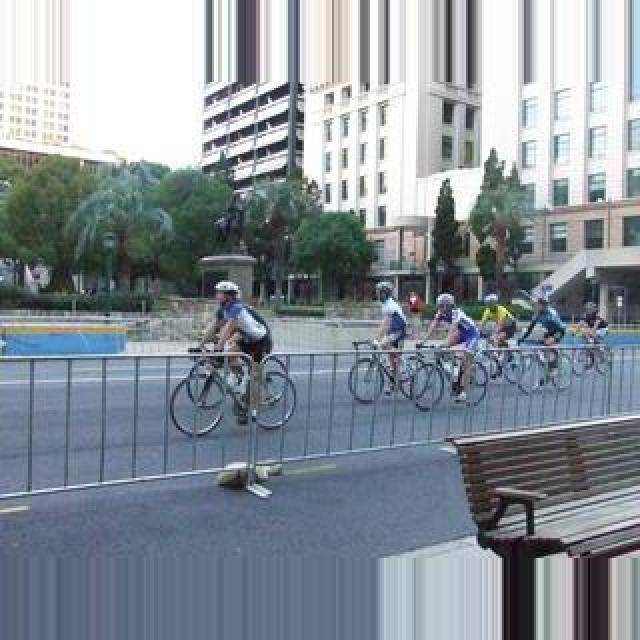MC-Bike: (198, 280, 274, 418), (418, 290, 480, 400), (372, 282, 408, 398), (520, 292, 566, 352), (478, 292, 516, 354)
Person: (168, 347, 296, 437), (410, 342, 488, 408), (349, 339, 419, 405), (519, 340, 573, 394), (473, 338, 521, 384), (566, 334, 612, 376)
